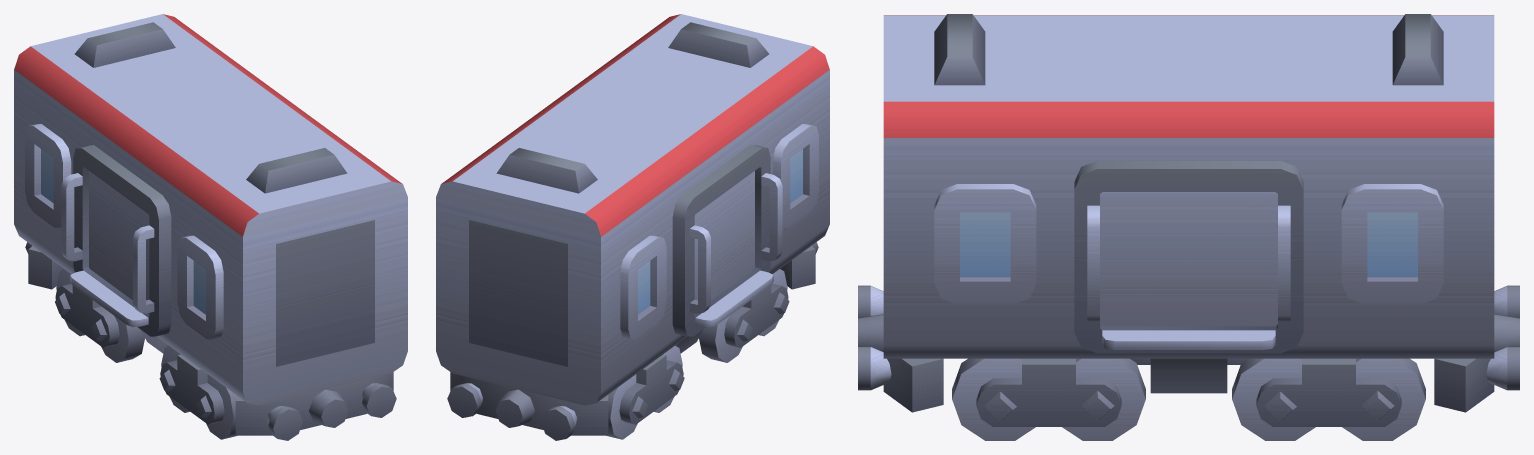
File: train-electric-subway-c.glb
The picture shows the model from 3 angles, left to right: view 1: azimuth 30°, elevation 25°; view 2: azimuth 150°, elevation 25°; view 3: azimuth 270°, elevation 25°; orthographic projection. The views are drawn at different scales.
Parts seen in each view (by area): view 1: train-electric-subway-c, wheels-front, wheels-back; view 2: train-electric-subway-c, wheels-back, wheels-front; view 3: train-electric-subway-c, wheels-front, wheels-back.
Boxes of the visible parts, x1,y1,x2,y2 form: train-electric-subway-c: (14, 14, 407, 440); wheels-front: (159, 346, 237, 439); wheels-back: (55, 269, 144, 362); train-electric-subway-c: (436, 14, 829, 440); wheels-back: (606, 346, 684, 439); wheels-front: (699, 269, 789, 362); train-electric-subway-c: (858, 14, 1519, 412); wheels-front: (952, 358, 1145, 440); wheels-back: (1232, 358, 1425, 440).
Bounding box in the file's own units: 1.35 × 1.57 × 2.6.
Materials: 1 (1 with a texture image).
